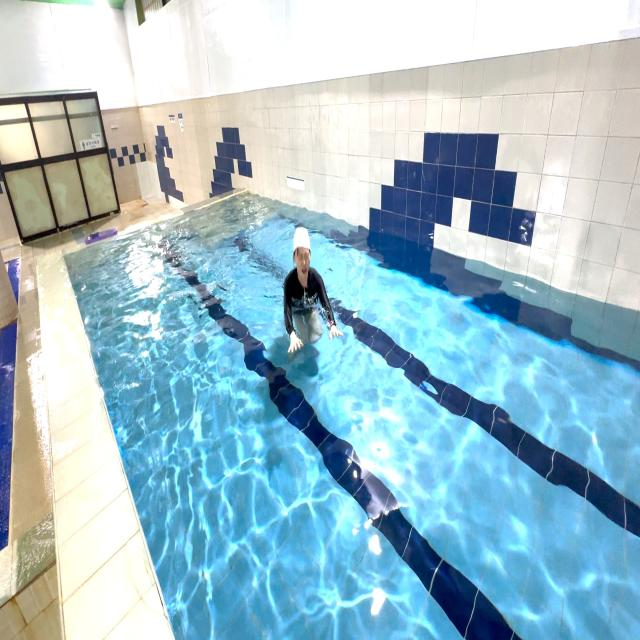Swimming: (262, 205, 354, 388)
